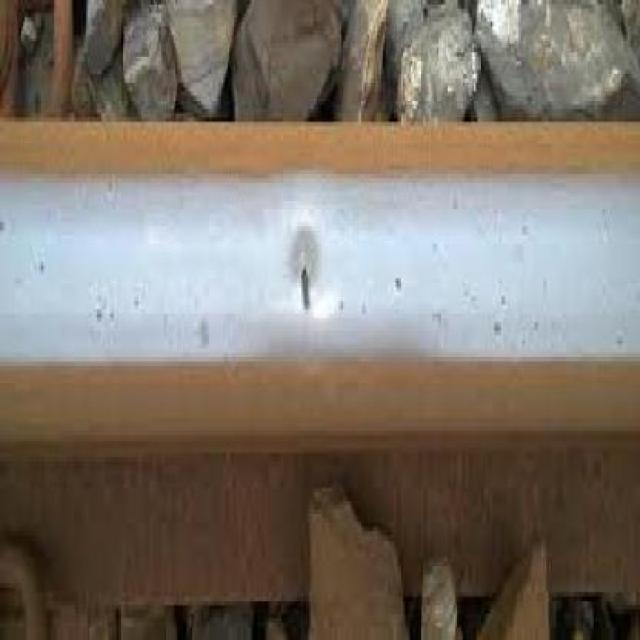defective: (0, 67, 640, 584)
